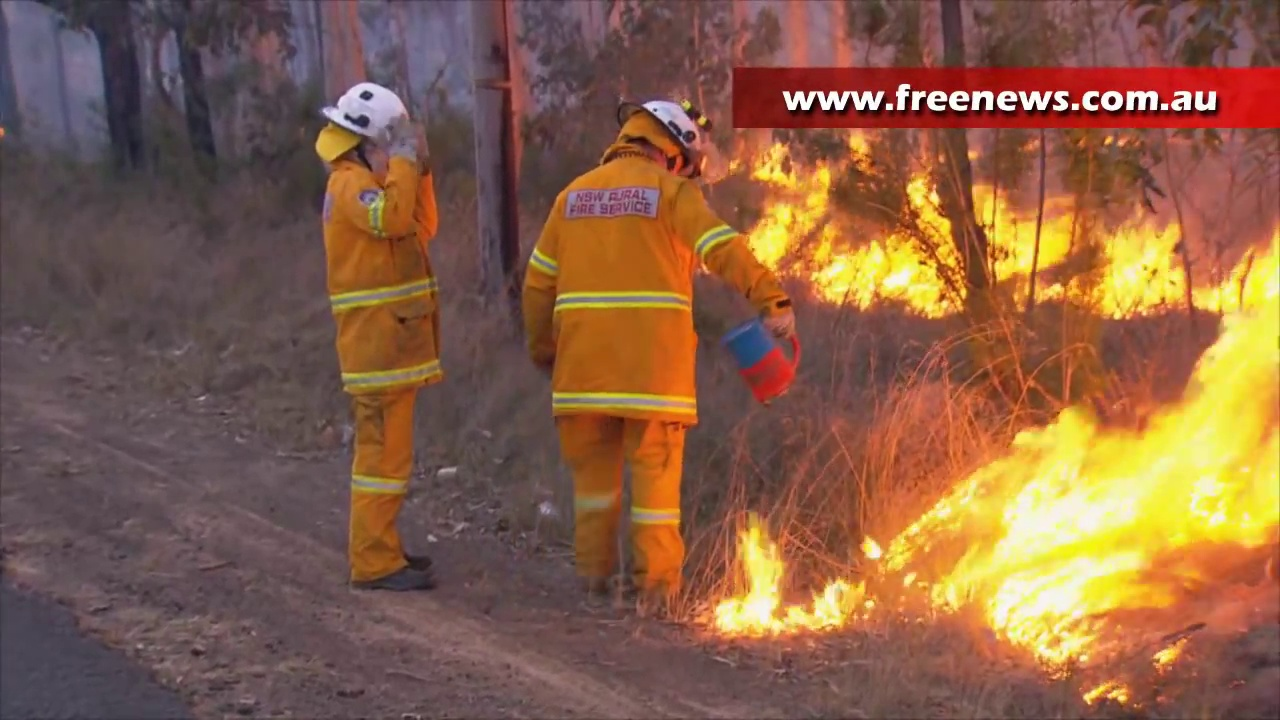fire: (887, 305, 1280, 693), (787, 177, 963, 313), (1097, 217, 1280, 314), (748, 143, 833, 268), (718, 533, 806, 638), (977, 180, 1072, 274), (815, 575, 866, 622), (863, 535, 883, 556)
